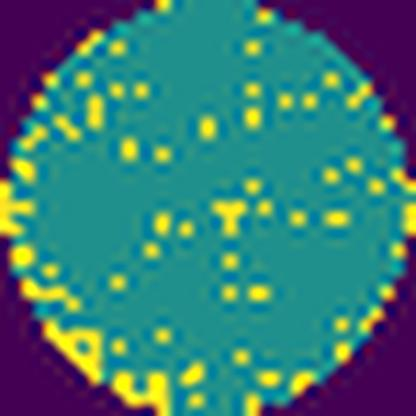Edge-Loc: (49, 320, 109, 384), (113, 370, 168, 416), (0, 181, 40, 238)
